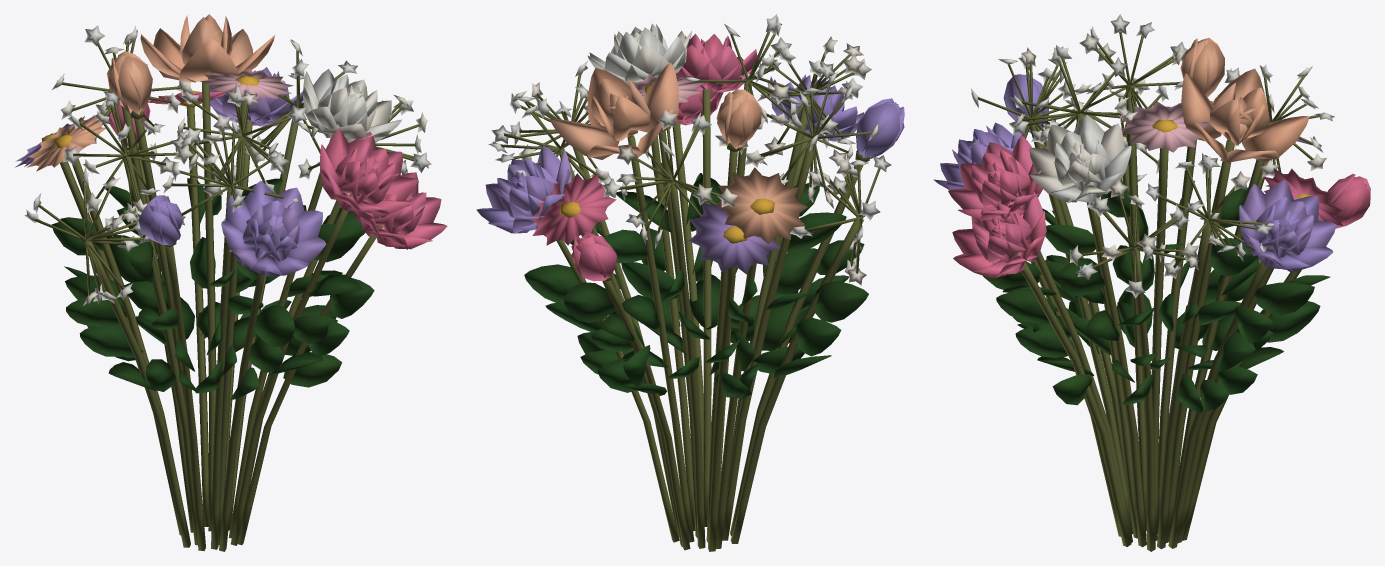
The model's file is bucket_mixed.glb.
3 renders of one model, left to right at view 1: azimuth 30°, elevation 25°; view 2: azimuth 150°, elevation 25°; view 3: azimuth 270°, elevation 25°, orthographic. The views are drawn at different scales.
Visible parts, largest first — view 1: Sammel Pflanze, Sammel Putz; view 2: Sammel Pflanze, Sammel Putz; view 3: Sammel Pflanze, Sammel Putz.
Boxes of the visible parts, x1,y1,x2,y2 form: Sammel Pflanze: [15, 14, 447, 399]; Sammel Putz: [33, 39, 419, 551]; Sammel Pflanze: [476, 14, 904, 399]; Sammel Putz: [500, 31, 880, 551]; Sammel Pflanze: [933, 14, 1370, 412]; Sammel Putz: [978, 31, 1319, 551].
Size of the model in its own units: 0.4132 by 0.5164 by 0.4243.
